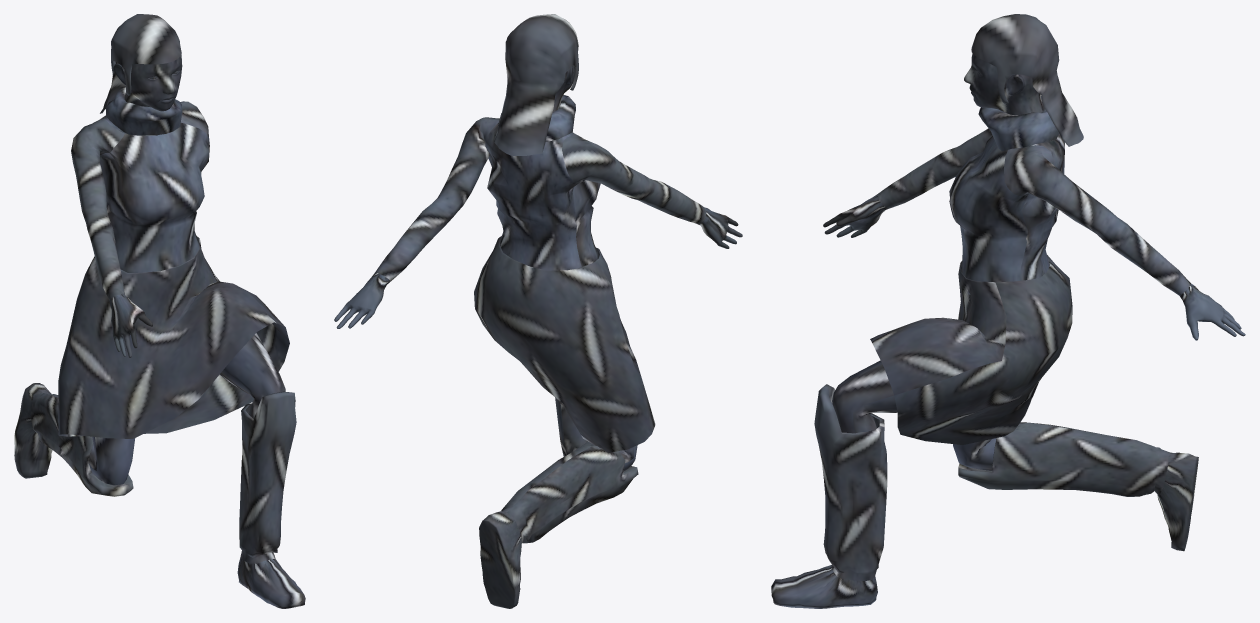
The model's file is crouch.obj.
The picture shows the model from 3 angles, left to right: view 1: azimuth 30°, elevation 25°; view 2: azimuth 150°, elevation 25°; view 3: azimuth 270°, elevation 25°; orthographic projection. The views are drawn at different scales.
Visible parts, largest first — view 1: Mesh_and_Rig Ninja polySurface1; view 2: Mesh_and_Rig Ninja polySurface1; view 3: Mesh_and_Rig Ninja polySurface1.
Boxes of the visible parts, x1,y1,x2,y2 form: Mesh_and_Rig Ninja polySurface1: (14,14,305,608); Mesh_and_Rig Ninja polySurface1: (334,14,742,608); Mesh_and_Rig Ninja polySurface1: (771,14,1245,608).
Size of the model in its own units: 1.54 by 3.63 by 2.75.
